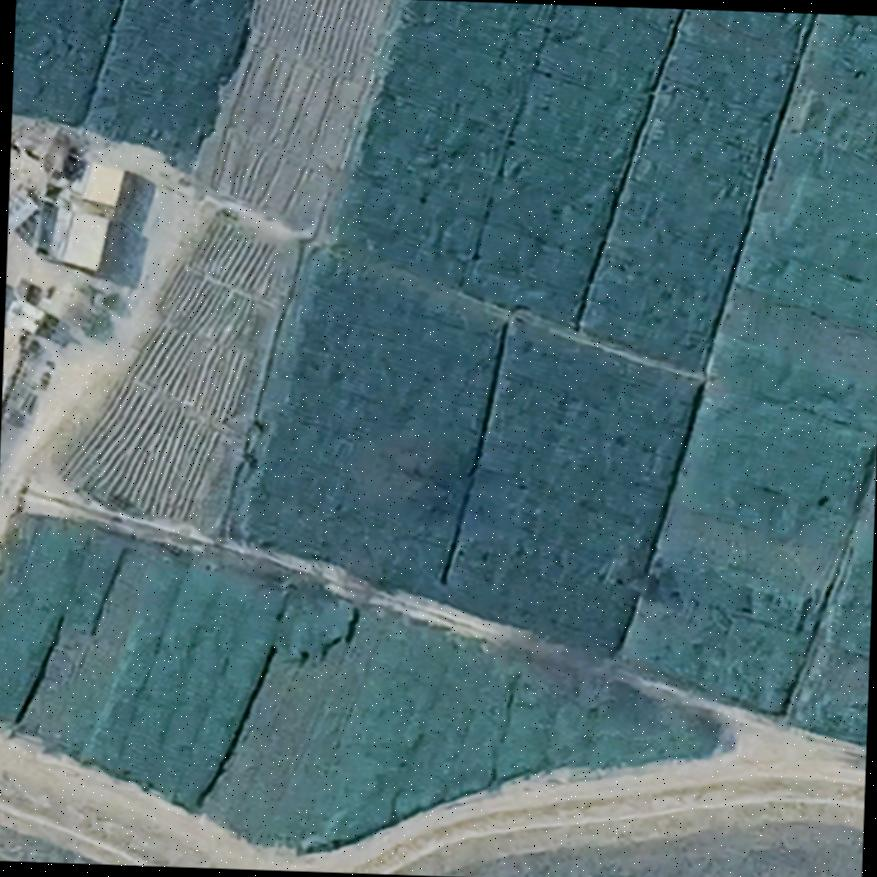Solarpanel: (8, 185, 38, 236)
